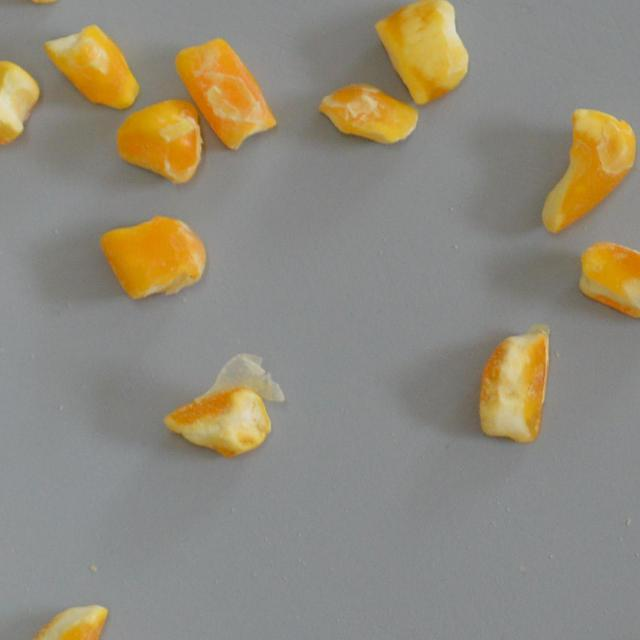dañado: (161, 346, 289, 464), (535, 100, 640, 238), (170, 36, 280, 152), (371, 0, 472, 110), (475, 312, 553, 450), (97, 210, 209, 303), (40, 19, 141, 112), (112, 94, 204, 188), (317, 80, 420, 150), (572, 237, 640, 326), (2, 596, 111, 640), (0, 56, 40, 150)
